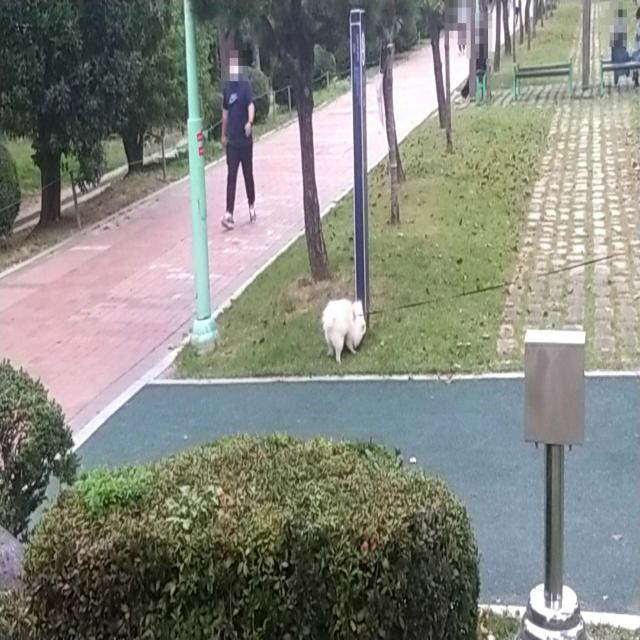Dog: (322, 299, 366, 362)
